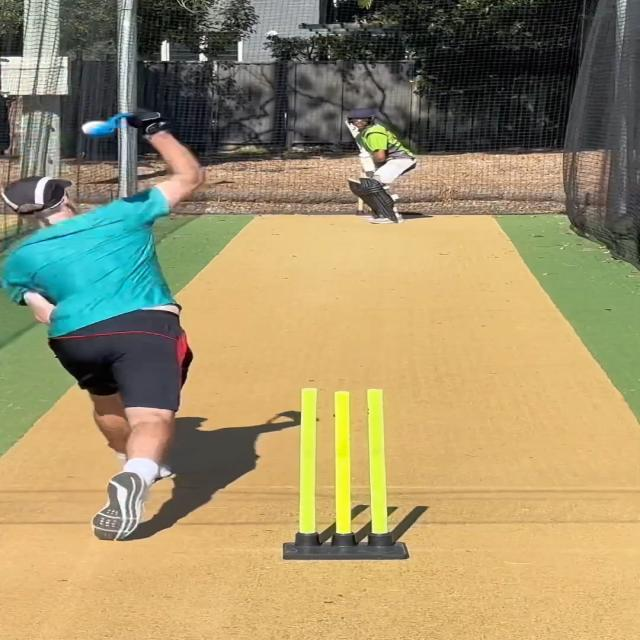stump: (282, 387, 411, 560)
